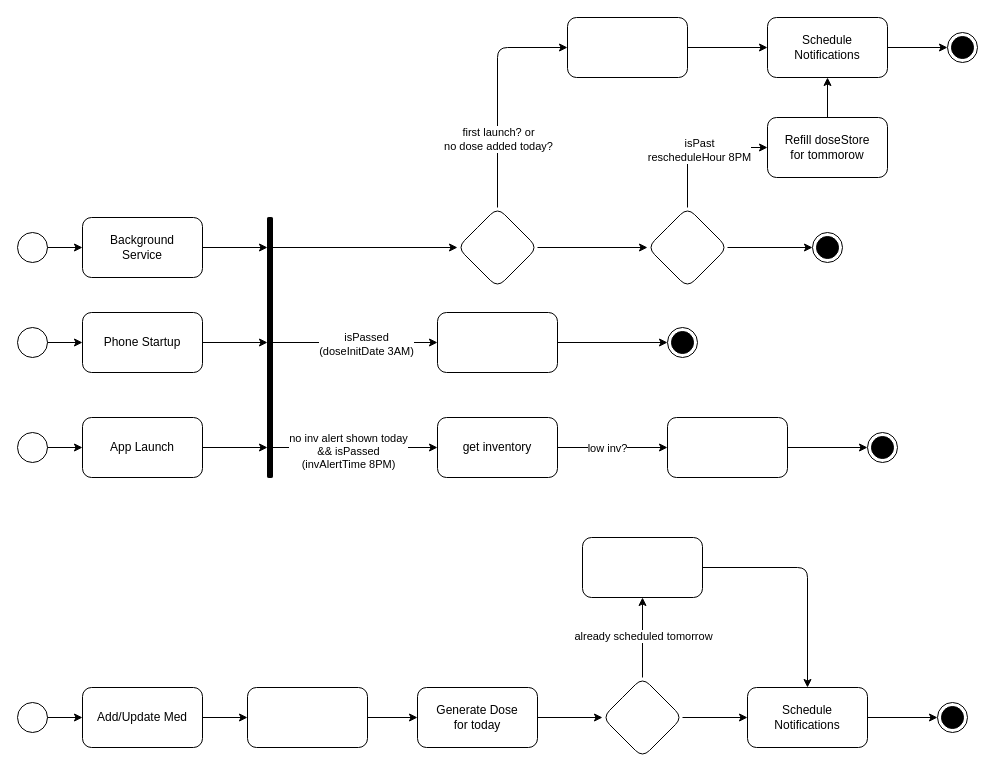
The diagram is 995 pixels wide and 775 high, and some of its shapes have lost their labels. Each missing label, with the box of its shape:
Clear old doses (skip pending): (436, 312, 558, 372)
display inv notification: (666, 416, 788, 478)
Generate Dose for tomorrow: (582, 536, 702, 598)
Refill doseStore: (566, 16, 688, 78)
Remove all doses for med: (246, 686, 368, 748)
